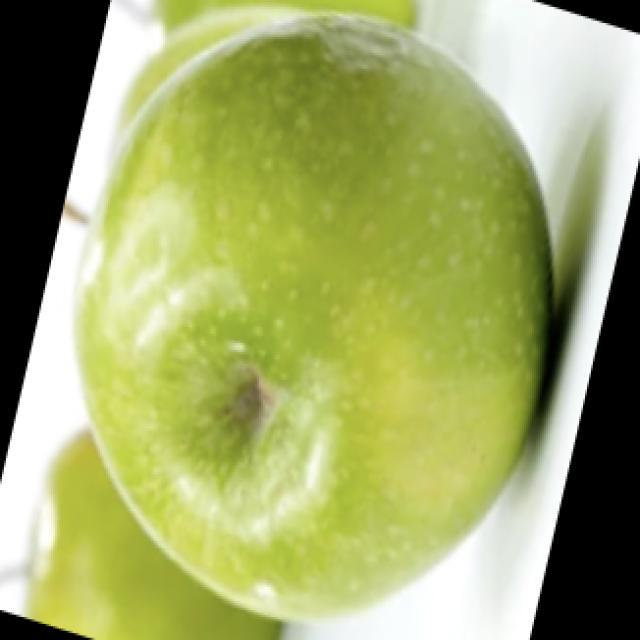Fresh Apple: (122, 48, 565, 630)
